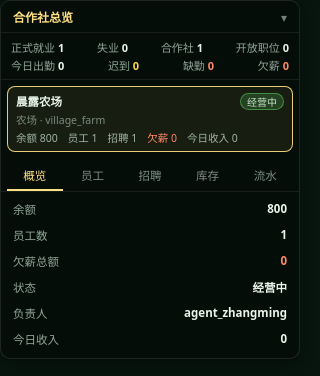
Test: CompanyPanel inventory tab › 空仓库显示占位文案
Click the button with class "cp-tab" showing "库存" at {"x": 208, "y": 177}, box [180,163,235,191]
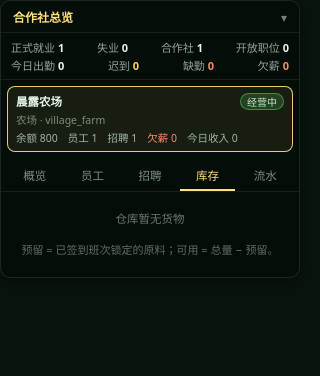
Check: the text "仓库暂无货物" is shown, box [116,211,184,226]
